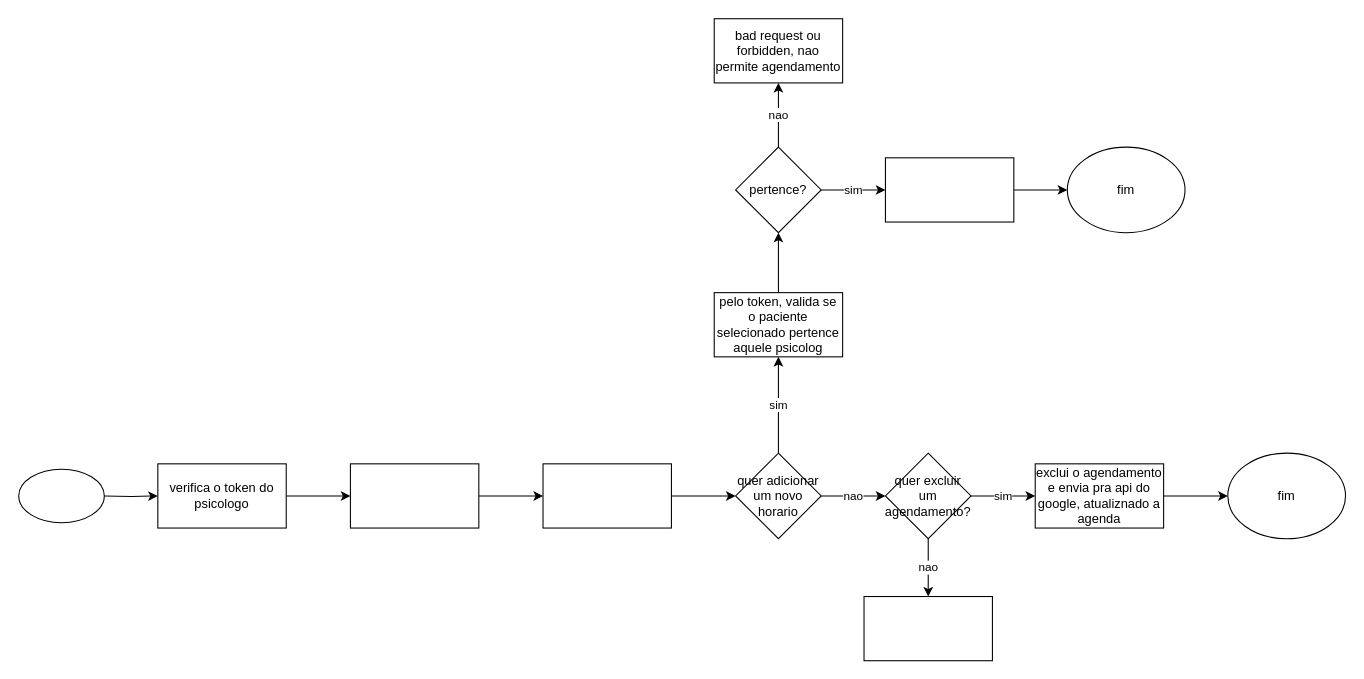
Image size: 1364x679. Some labels were removed from this diagram. The shapes that lost their labels are listed below. From the top down, each one's centre as x and y in pixels, then its label:
[949,189]: adiciona o horario e envia pra api da agenda google
[61,495]: inicio
[414,495]: vincula via API a agenda do google desse psicologo
[606,495]: exibe todos os dias do mes, incluindo os agendamentos de cada dia com horario
[927,628]: mantem somente a visualização da agenda
